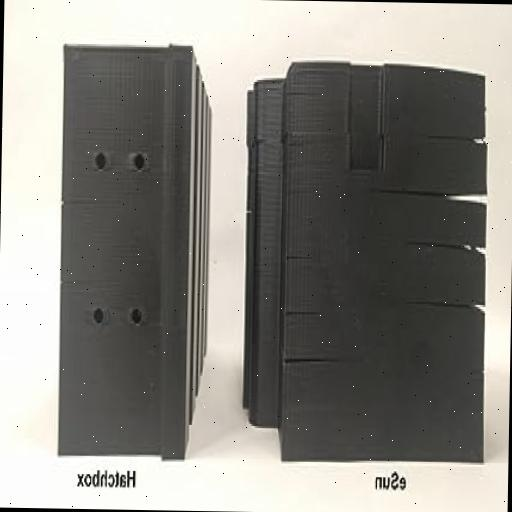cracks: (376, 178, 502, 229), (257, 324, 342, 389), (406, 284, 492, 324), (418, 126, 501, 164), (57, 181, 115, 225), (406, 240, 499, 266)
